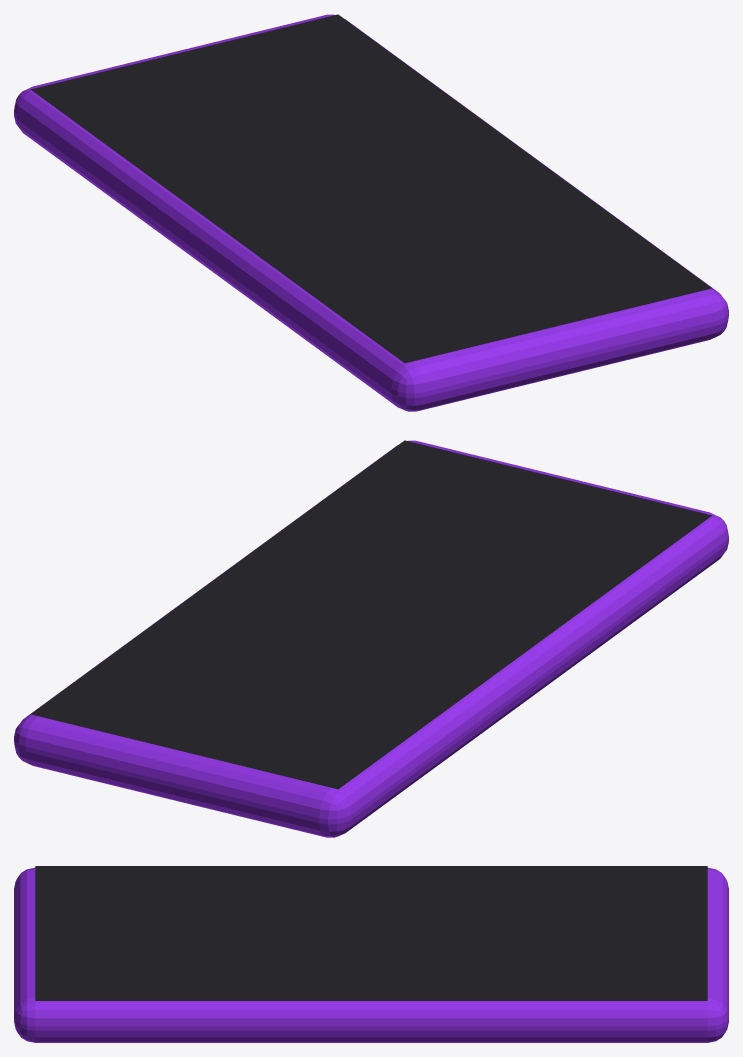
File: oppo-a-model-353-mid-range-2024.glb
3 renders of one model, top to bottom at view 1: azimuth 30°, elevation 25°; view 2: azimuth 150°, elevation 25°; view 3: azimuth 270°, elevation 25°, orthographic. The views are drawn at different scales.
Visible parts, largest first — view 1: Phone_Screen, Phone_Body; view 2: Phone_Screen, Phone_Body; view 3: Phone_Screen, Phone_Body.
Boxes of the visible parts, bbox=[...] form: Phone_Screen: bbox=[31, 14, 711, 363]; Phone_Body: bbox=[14, 14, 728, 411]; Phone_Screen: bbox=[31, 440, 711, 789]; Phone_Body: bbox=[14, 440, 728, 837]; Phone_Screen: bbox=[35, 866, 707, 1000]; Phone_Body: bbox=[14, 867, 728, 1042].
Bounding box in the file's own units: 0.0706 × 0.0097 × 0.1455.
